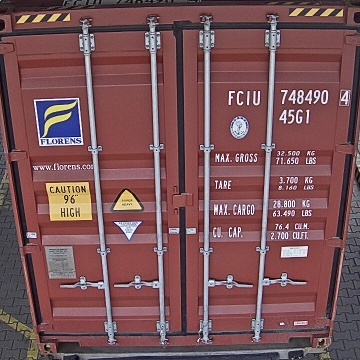serial_id: (228, 89, 350, 105)
